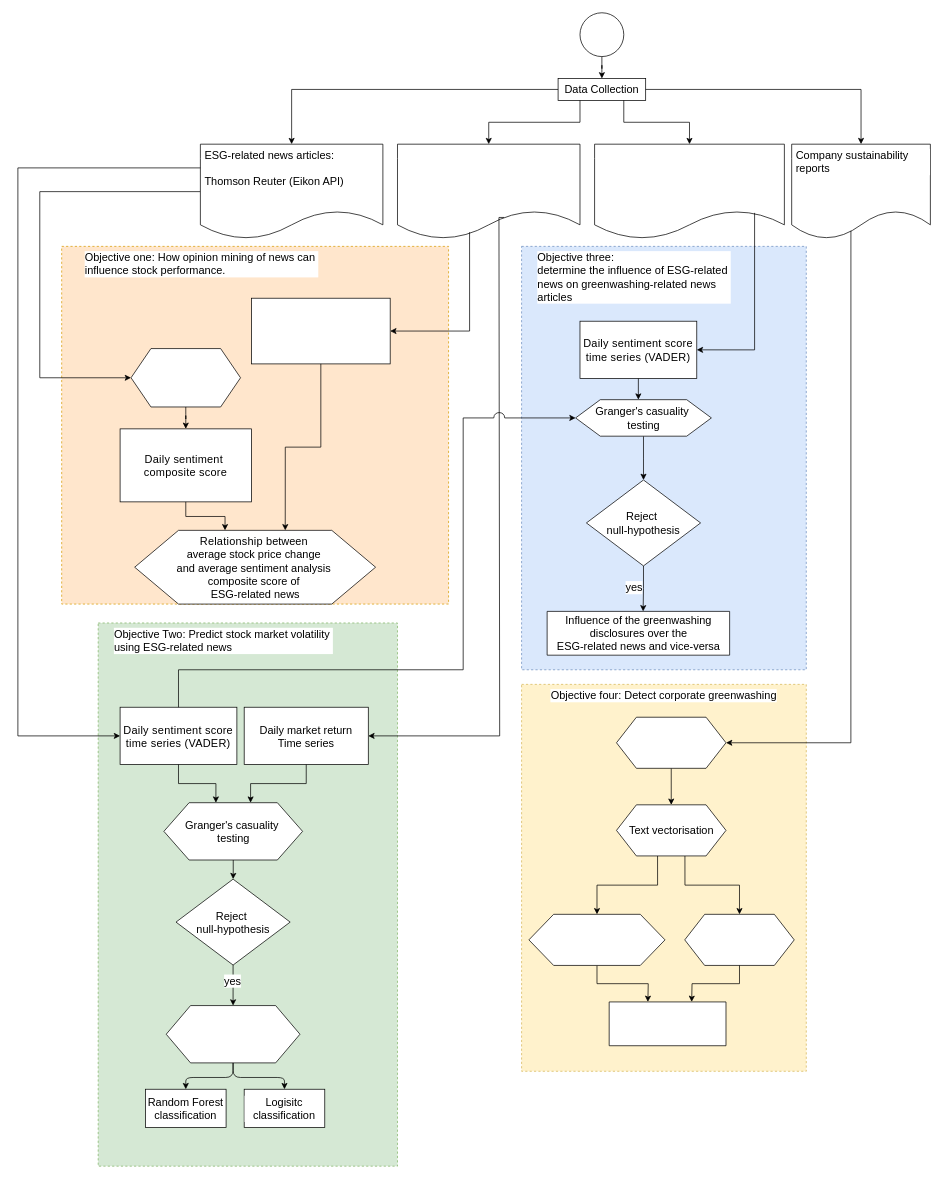
Some shapes in this 943 by 1179 pixel diagram are drawn without their labels. The centre of each missing label's shape, as x and y in pixels:
Daily stock prices time series: the point at 320,330
Greenwashing-related news articles: Thomson Reuters (Eikon API): the point at 689,191
Latent Dirichlet Allocation (LDA) for topic distribution: the point at 232,1034
Sentence similarity + Thematic analysis: the point at 596,939
Sentiment Analysis: the point at 739,939
Sentiment analysis (FinBERT): the point at 185,377
Start: the point at 601,34
Stock Market Data: Thomson Reuter (Eikon API): the point at 488,191
Text pre-processing: the point at 671,742
Visualisation: the point at 667,1023
